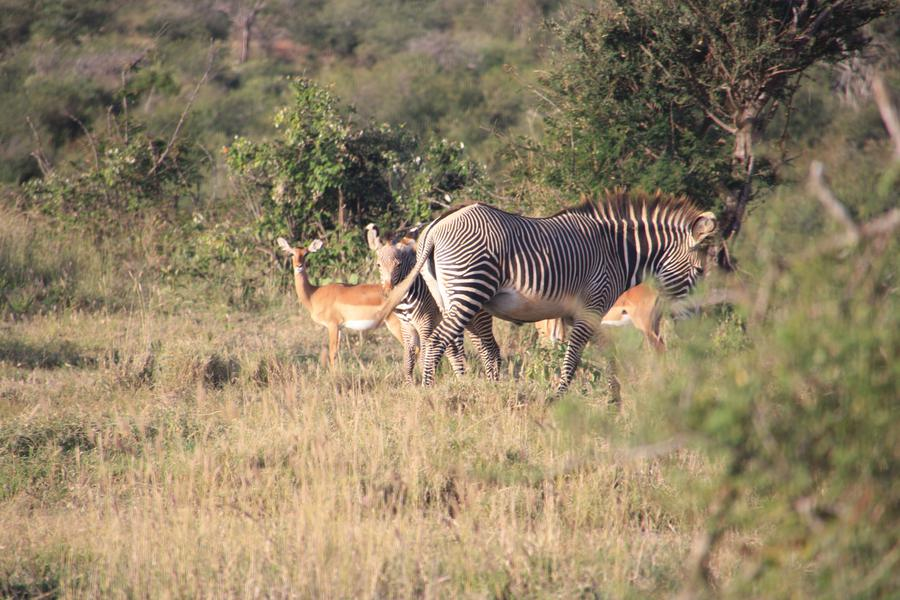zebra_grevys: (421, 205, 609, 310)
